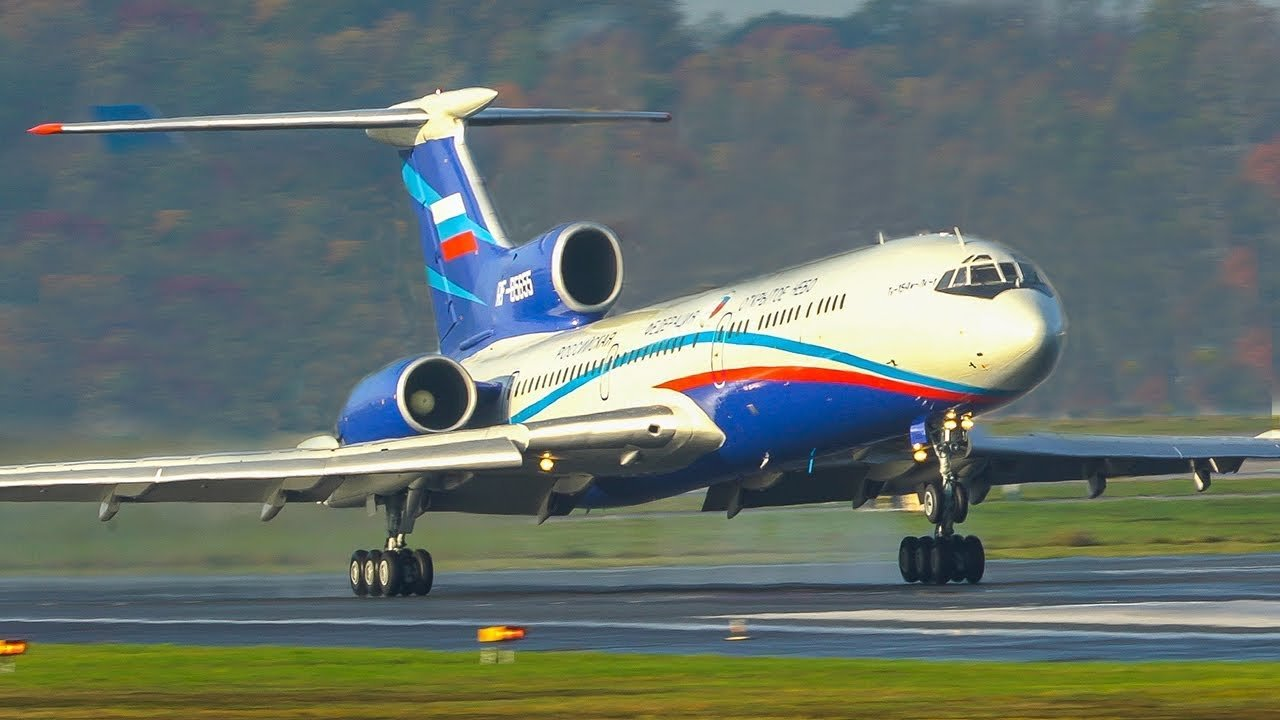Aeronef_commercial: (4, 57, 1280, 617)
